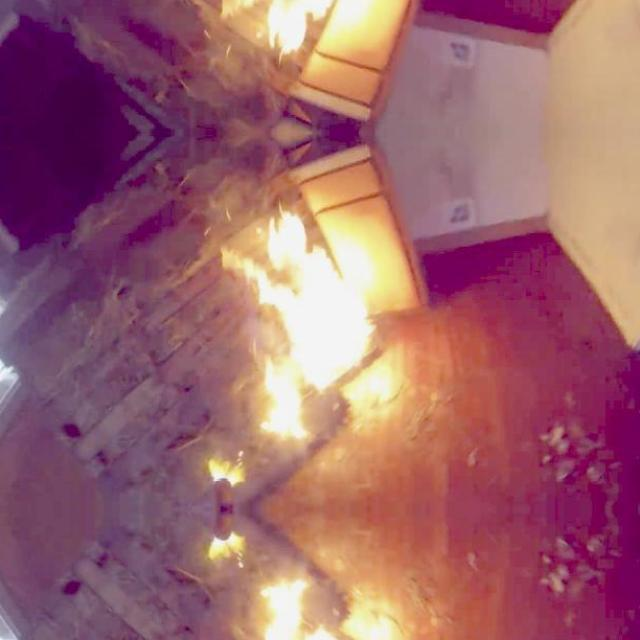smoke: (217, 202, 377, 443), (216, 0, 396, 70), (246, 575, 396, 640), (206, 450, 244, 487), (206, 532, 244, 568)
